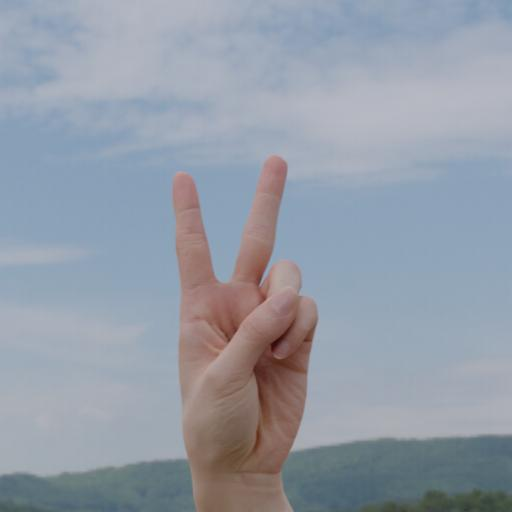V: (141, 126, 365, 501)
